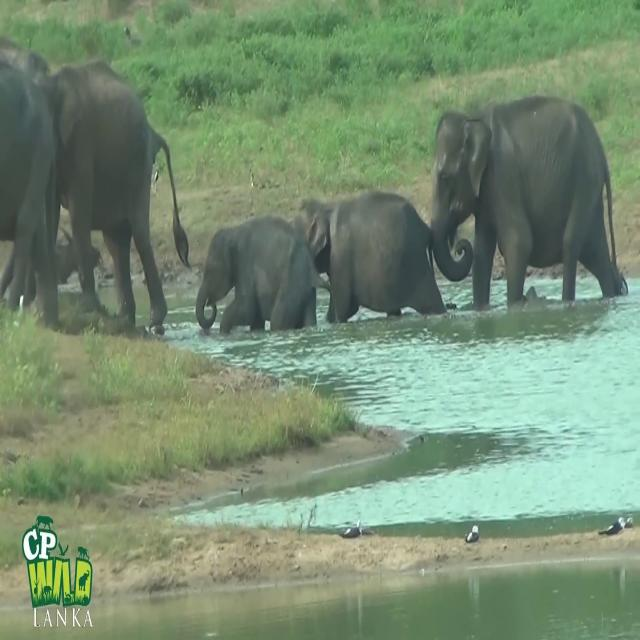Elephant: (32, 59, 192, 332), (430, 94, 629, 310), (292, 188, 473, 324), (0, 47, 59, 327), (195, 214, 330, 334)
